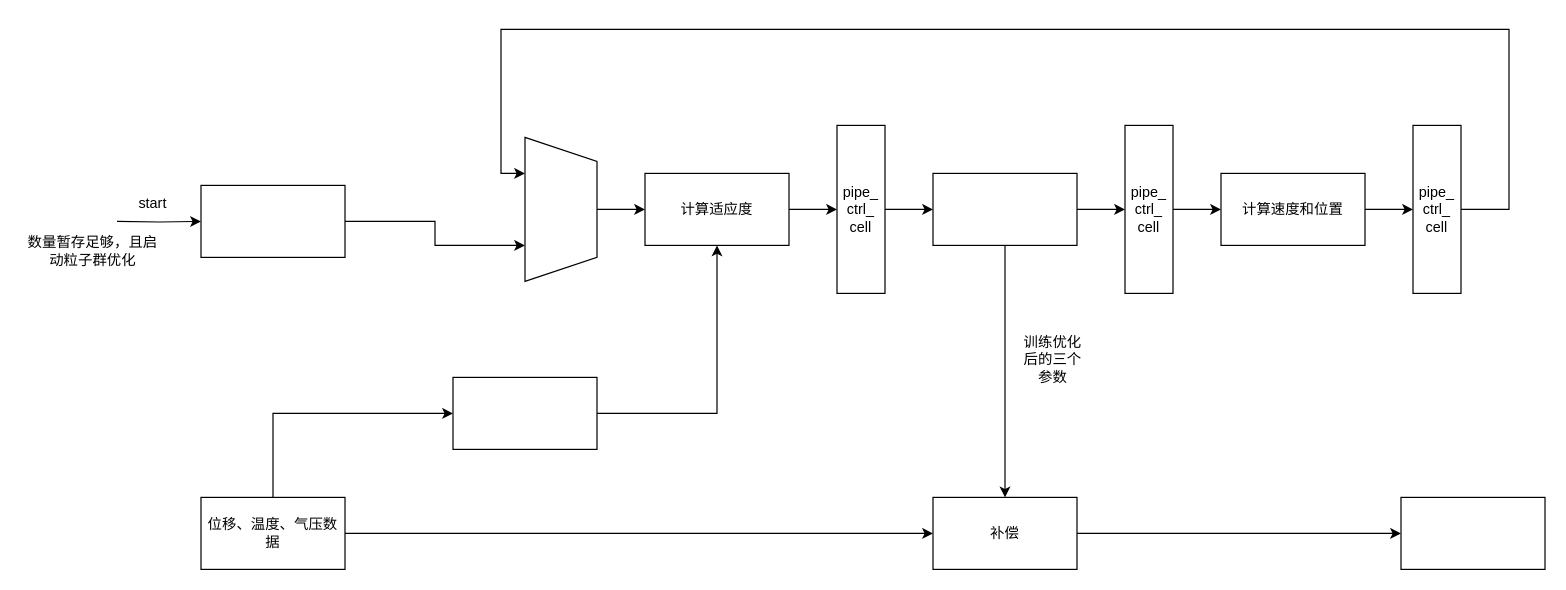
This 1566x590 diagram has some shape labels left out. Each missing label, with the box of its shape:
output: (1400, 496, 1545, 569)
暂存一定量数据: (452, 376, 597, 449)
粒子种群初始化: (200, 184, 345, 257)
记录全局、局部最优位置和适应度: (932, 172, 1077, 245)
